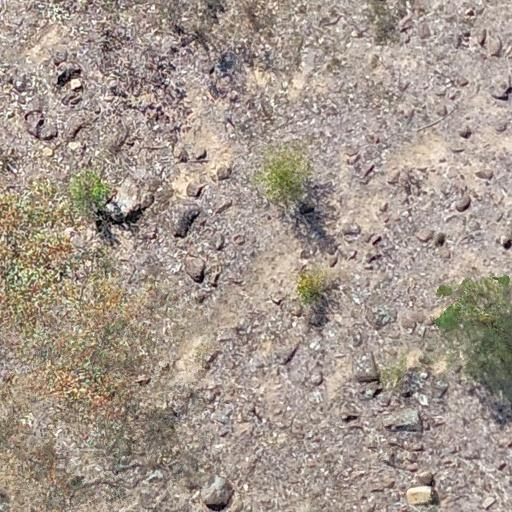stone: (102, 172, 152, 218), (164, 197, 202, 236), (380, 404, 428, 434), (400, 482, 444, 512), (196, 476, 236, 503), (352, 353, 380, 383), (484, 72, 512, 99), (25, 98, 44, 137), (183, 254, 207, 282), (404, 308, 429, 330), (482, 33, 503, 57), (39, 117, 60, 140), (339, 221, 361, 237), (499, 231, 512, 256), (214, 162, 232, 180), (186, 181, 205, 198), (491, 116, 511, 132), (450, 197, 472, 211), (479, 493, 497, 510), (456, 121, 472, 140), (214, 200, 233, 216), (173, 146, 189, 163), (66, 76, 83, 92), (415, 228, 434, 242), (158, 358, 172, 377), (345, 150, 361, 166), (466, 217, 482, 233), (52, 50, 69, 65), (418, 21, 432, 39), (386, 171, 402, 185), (310, 370, 324, 386), (474, 169, 494, 180), (214, 232, 226, 250), (290, 303, 304, 318), (365, 132, 381, 145), (433, 231, 446, 247), (448, 142, 466, 153), (435, 104, 449, 118), (444, 213, 460, 225), (232, 233, 246, 246), (135, 374, 150, 386), (194, 148, 207, 161), (328, 253, 339, 268), (378, 198, 390, 211), (371, 234, 383, 246), (456, 77, 469, 87), (496, 208, 504, 224), (497, 461, 507, 471), (496, 459, 506, 467)
